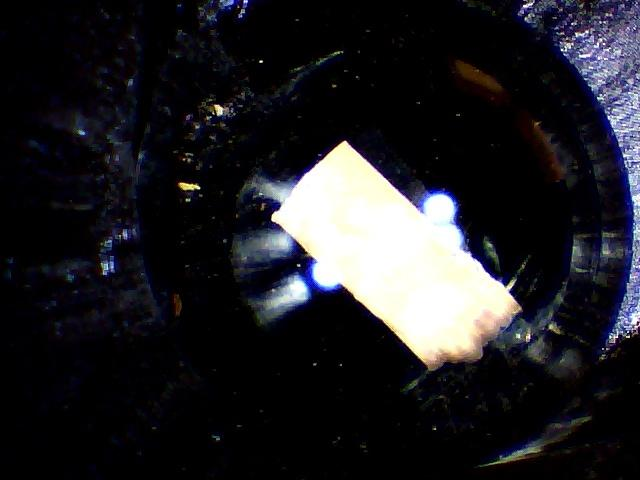megot: (264, 131, 523, 381)
